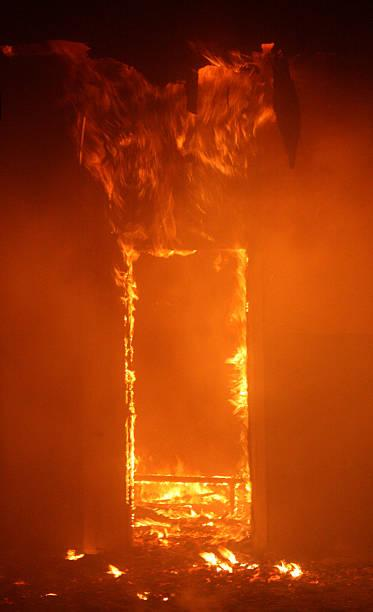Fire: (50, 44, 309, 583)
